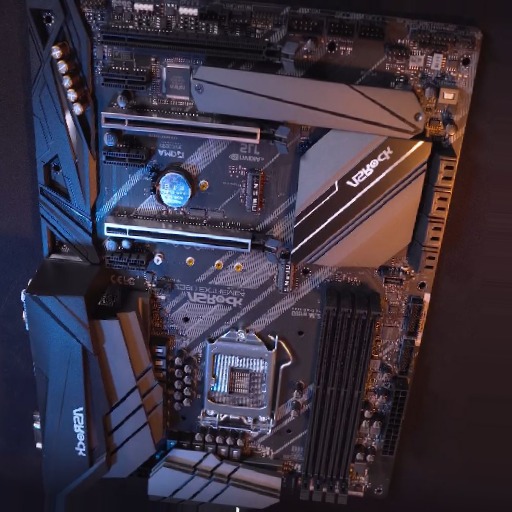CPU: (198, 325, 274, 430)
GPU: (99, 26, 295, 76), (100, 108, 290, 157), (104, 218, 282, 265)
MOTHERBOARD: (17, 8, 488, 507)
RAM: (301, 286, 379, 510)
SSD: (244, 170, 261, 213), (275, 257, 293, 293)
